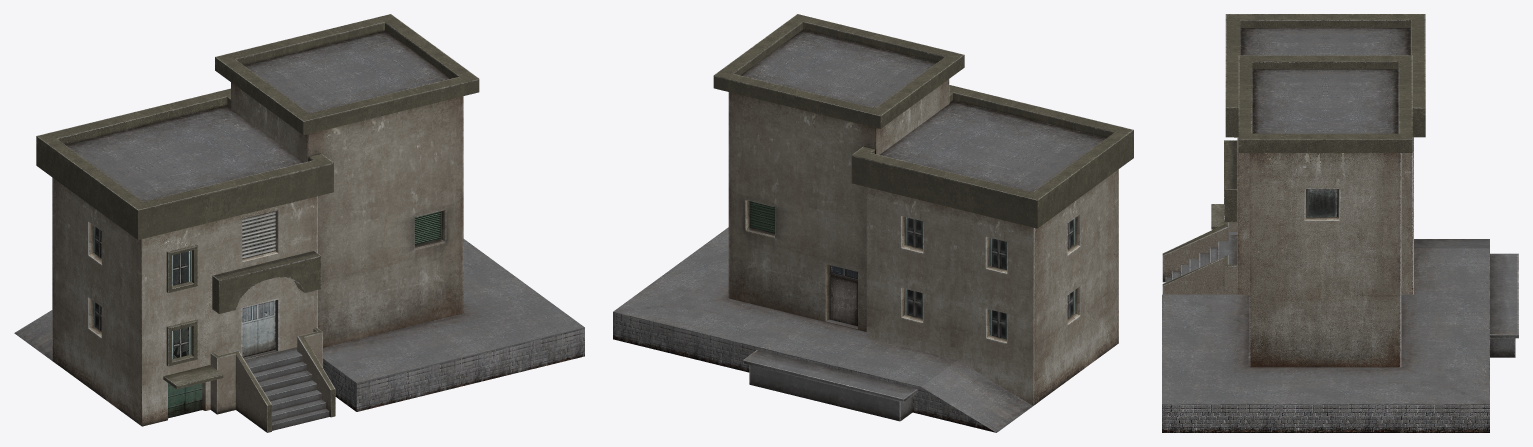
File: buildings_16.FBX
3 renders of one model, left to right at view 1: azimuth 30°, elevation 25°; view 2: azimuth 150°, elevation 25°; view 3: azimuth 270°, elevation 25°, orthographic. The views are drawn at different scales.
Parts seen in each view (by area): view 1: Object001; view 2: Object001; view 3: Object001.
Part boxes in pixels (x1,y1,x2,y2): Object001: (14,14,584,432); Object001: (613,14,1133,432); Object001: (1162,14,1518,432).
Size of the model in its own units: 1601 by 1213 by 980.
1 material, 1 textured.
